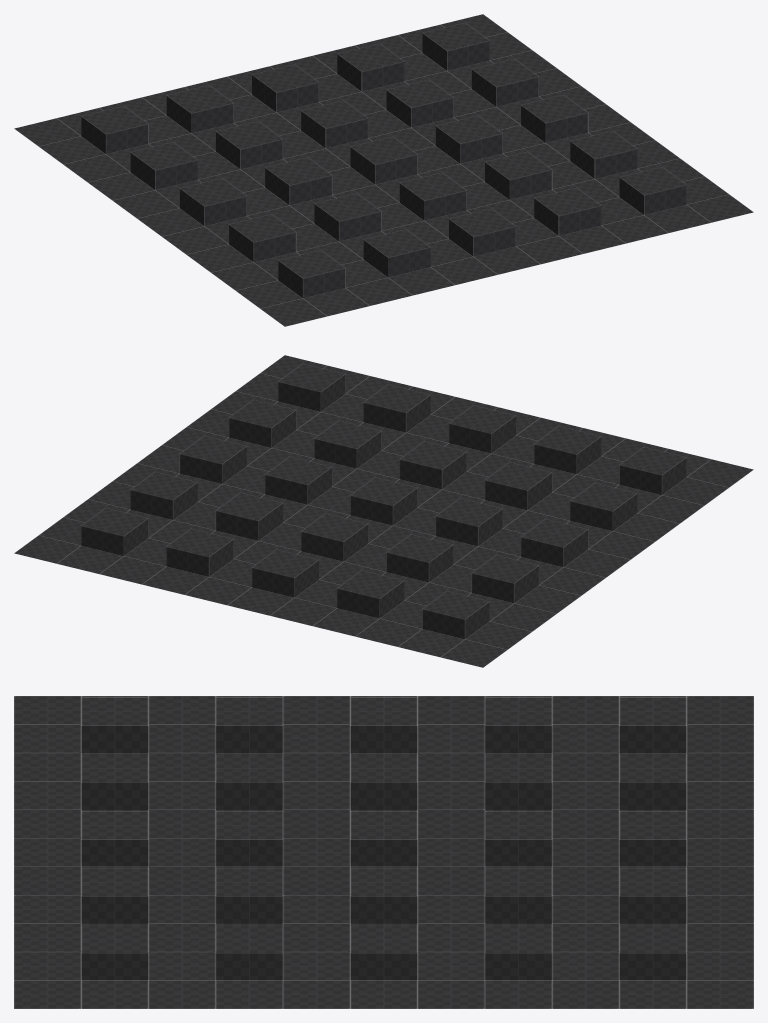
The model's file is level_rough.gltf.
3 renders of one model, top to bottom at view 1: azimuth 30°, elevation 25°; view 2: azimuth 150°, elevation 25°; view 3: azimuth 270°, elevation 25°, orthographic. The views are drawn at different scales.
Parts seen in each view (by area): view 1: Plane; view 2: Plane; view 3: Plane.
Part boxes in pixels (x1,y1,x2,y2): Plane: (14,14,753,326); Plane: (14,355,753,667); Plane: (14,696,753,1008).
Bounding box in the file's own units: 75 × 3.03 × 75.
Materials: 1 (1 with a texture image).
